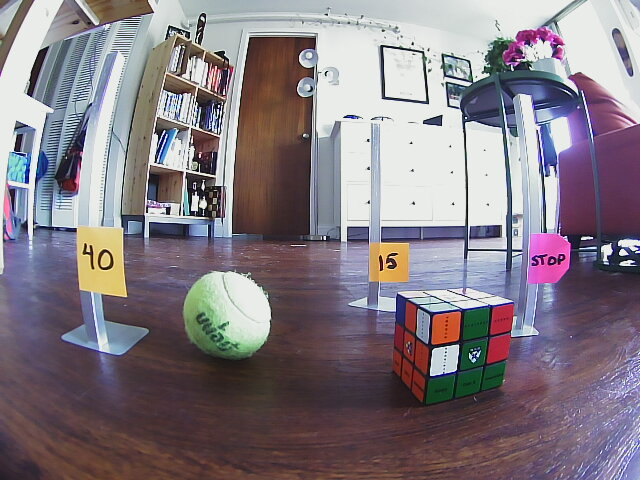15: (370, 244, 410, 285)
40: (76, 225, 124, 296)
ball: (180, 269, 274, 360)
cube: (396, 291, 512, 403)
stop: (530, 233, 569, 285)
